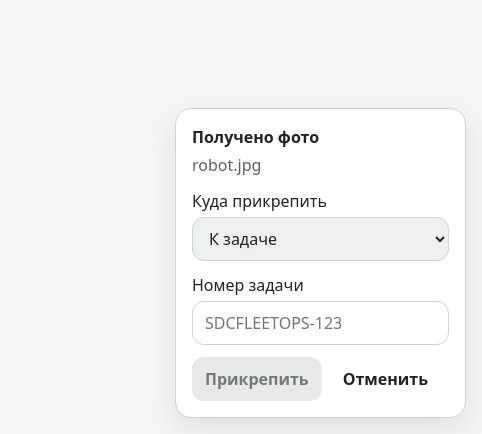
Test: ShareTargetInbox › retains the shared draft when delivery fails
The image size is (482, 434).
Type "SDCFLEETOPS-2" into the field labelled "Номер задачи" at (320, 323), box [192,301,449,345]
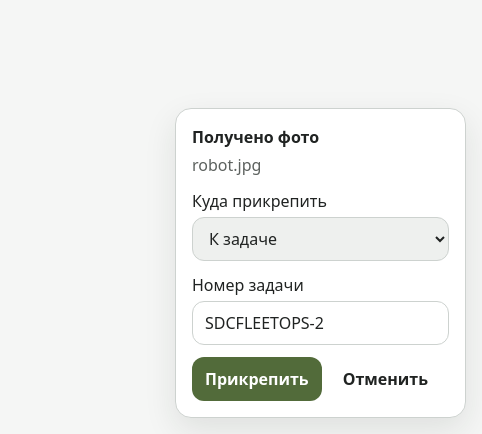
Click the button "Прикрепить" at (257, 379), box [192,357,322,401]
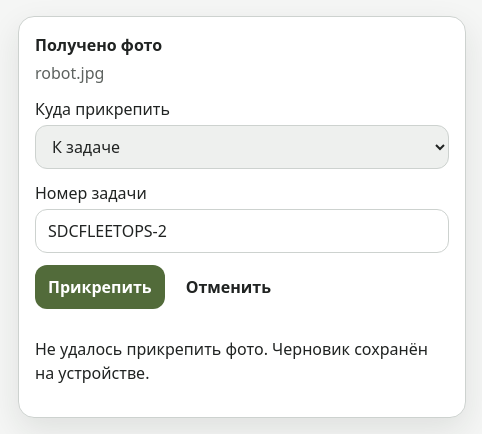
Check: the message shows "Черновик сохранён", box [35,338,428,384]
